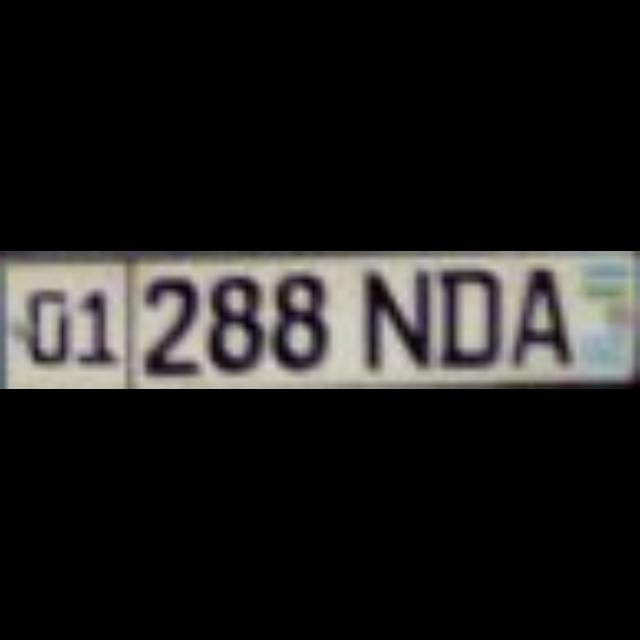0: (20, 284, 60, 356)
1: (72, 284, 112, 364)
2: (138, 270, 198, 370)
8: (264, 264, 324, 364), (205, 270, 258, 370)
A: (501, 264, 567, 364)
D: (436, 264, 494, 364)
N: (356, 264, 422, 364)
